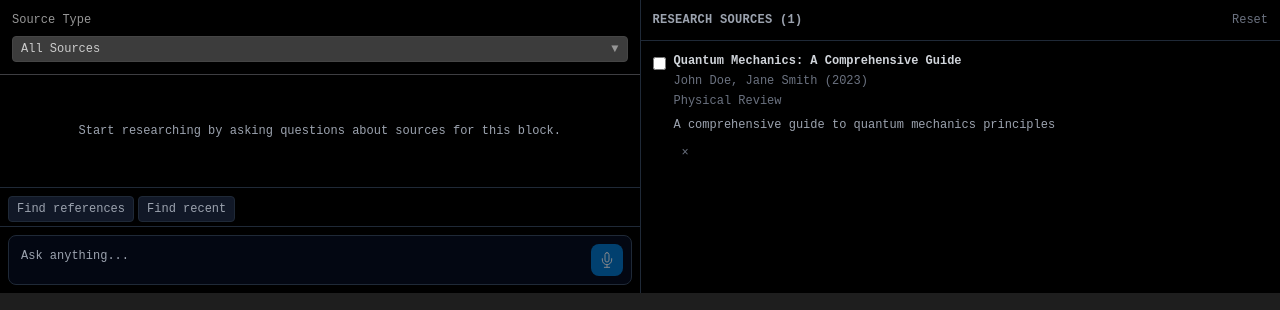
Test: ResearchTab › should delete source when delete button is clicked
Find delete button by title attribute
Step 1. Click the button titled "Delete source" → (685, 153), box x1=674 y1=141 x2=697 y2=165
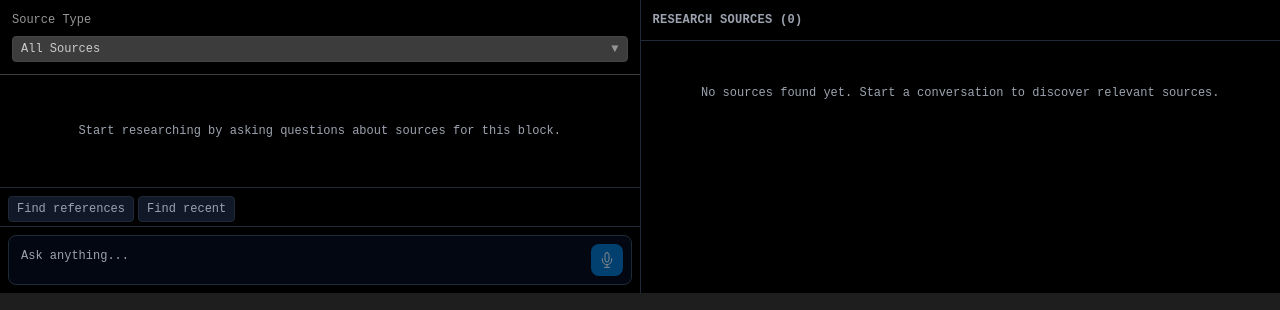
Now the heading "Quantum Mechanics: A Comprehensive Guide" is gone
